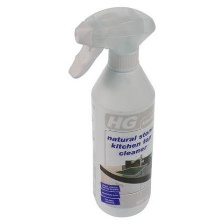cleaning_solution: (65, 4, 157, 219)
